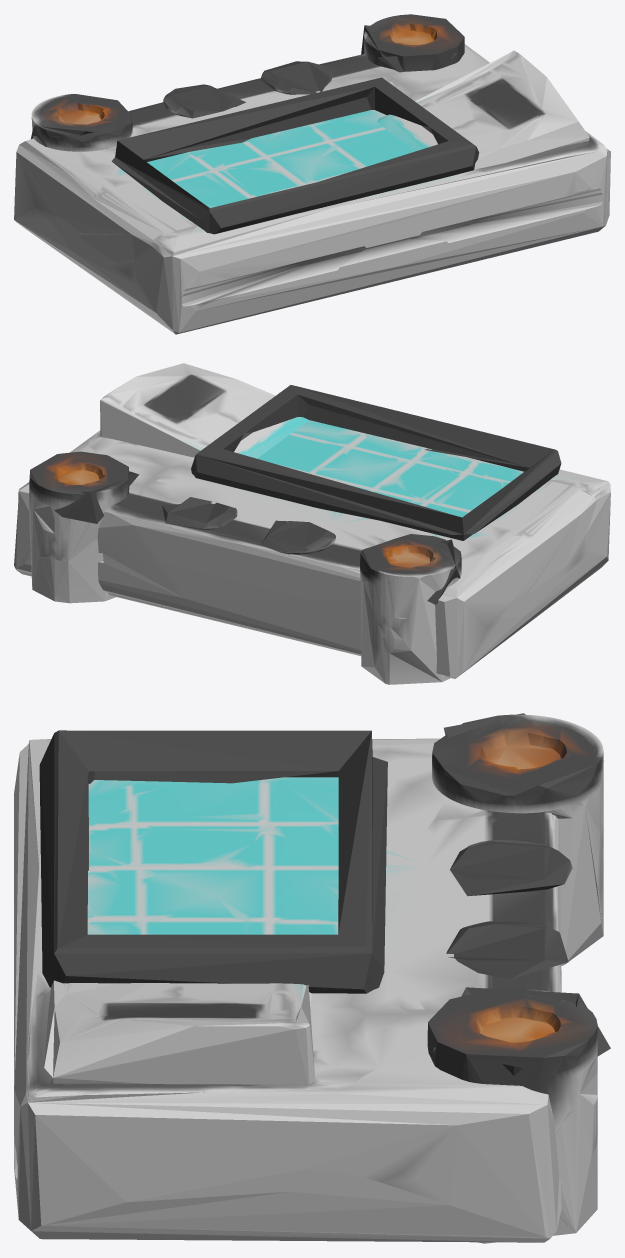
Rendered from Navegacion.glb.
3 views of the same model, one above another, from view 1: azimuth 30°, elevation 25°; view 2: azimuth 150°, elevation 25°; view 3: azimuth 270°, elevation 25° (orthographic). The views are drawn at different scales.
Parts seen in each view (by area): view 1: Sistema de navegación 1; view 2: Sistema de navegación 1; view 3: Sistema de navegación 1.
Boxes of the visible parts, bbox=[...] form: Sistema de navegación 1: bbox=[14, 14, 610, 334]; Sistema de navegación 1: bbox=[14, 363, 610, 684]; Sistema de navegación 1: bbox=[14, 713, 610, 1243].
Bounding box in the file's own units: 1.6 × 0.4571 × 1.09.
